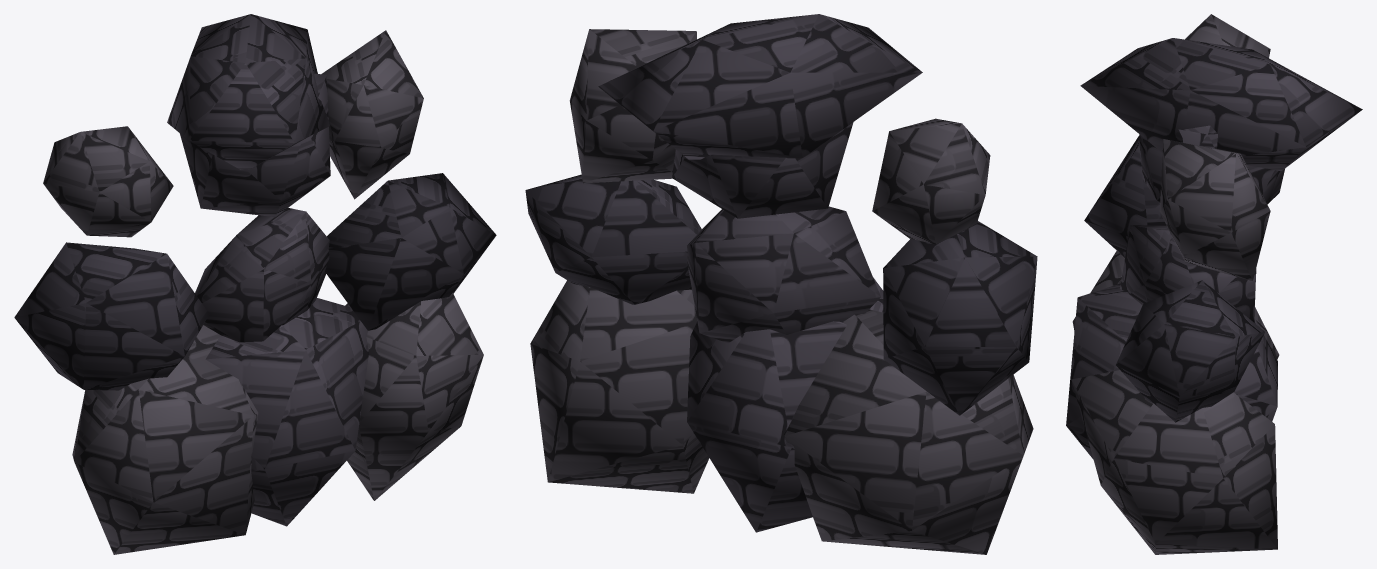
Rendered from felswand.glb.
The picture shows the model from 3 angles, left to right: view 1: azimuth 30°, elevation 25°; view 2: azimuth 150°, elevation 25°; view 3: azimuth 270°, elevation 25°; orthographic projection. The views are drawn at different scales.
Parts seen in each view (by area): view 1: modell; view 2: modell; view 3: modell.
Part boxes in pixels (box(x1,y1,x2,y2)): modell: box(14, 14, 496, 554); modell: box(525, 14, 1037, 554); modell: box(1066, 14, 1362, 554).
Bounding box in the file's own units: 4.1 × 3.94 × 2.31.
Materials: 1 (1 with a texture image).
